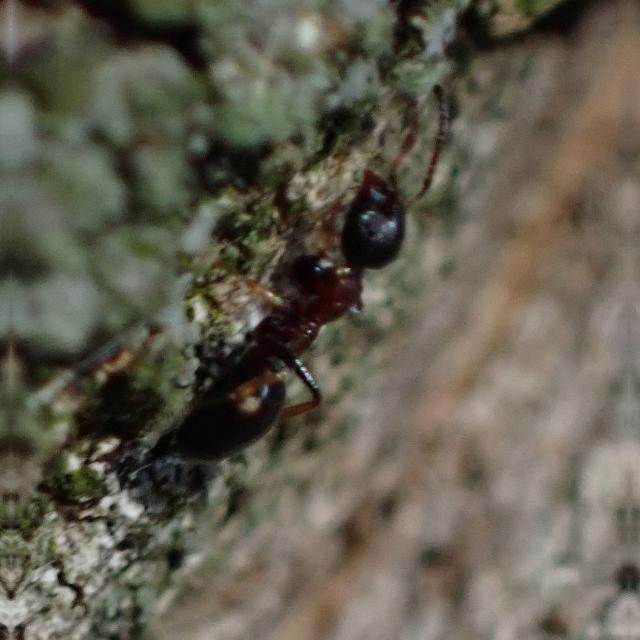Dolichoderus: (156, 111, 474, 499)
